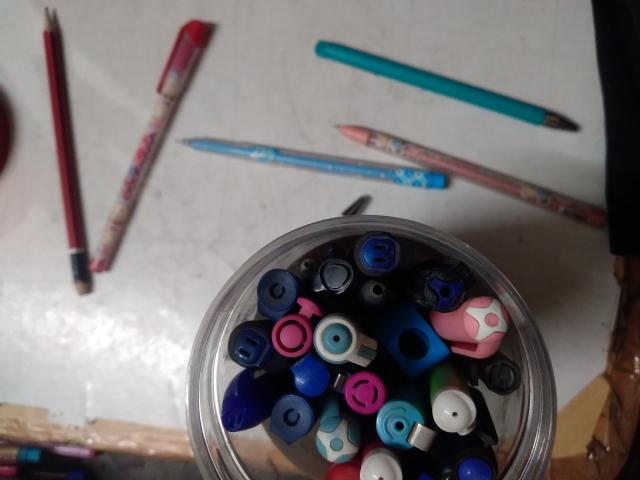PEN: (246, 178, 453, 480), (202, 88, 480, 214)
